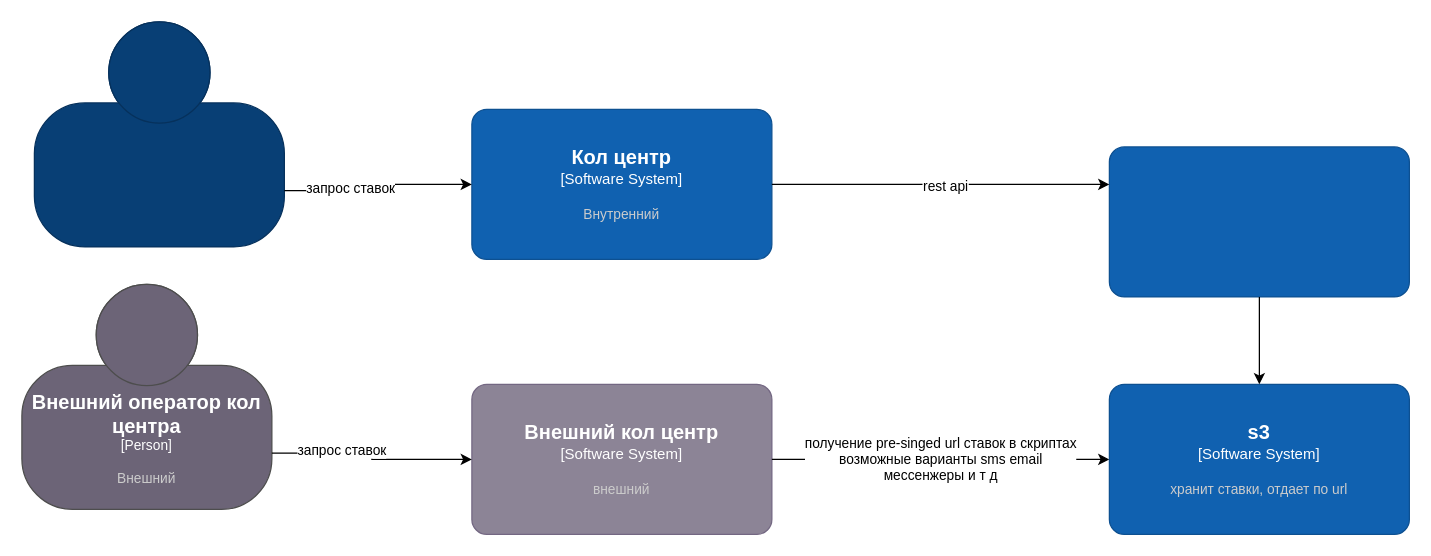
This 1431x556 diagram has some shape labels left out. Here are the shapes that lost their labels. From the top down, the centre of each, then its label:
At point (158, 134): "Оператор кол центра [Person] Внутренний".
At point (1258, 221): "Система формирования ставок [Software System] Формирует и сохраняет ставки".
